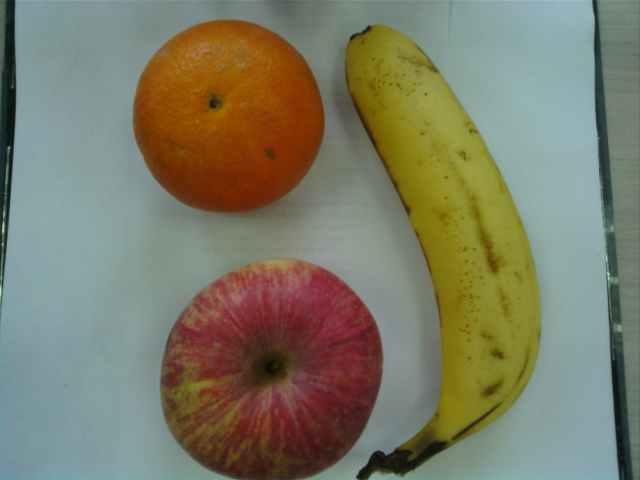normal_apple: (158, 255, 389, 480)
normal_banana: (344, 23, 547, 480)
normal_orange: (130, 18, 327, 219)
